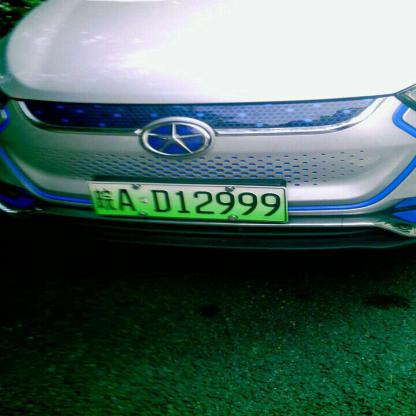lp: (88, 180, 289, 222)
